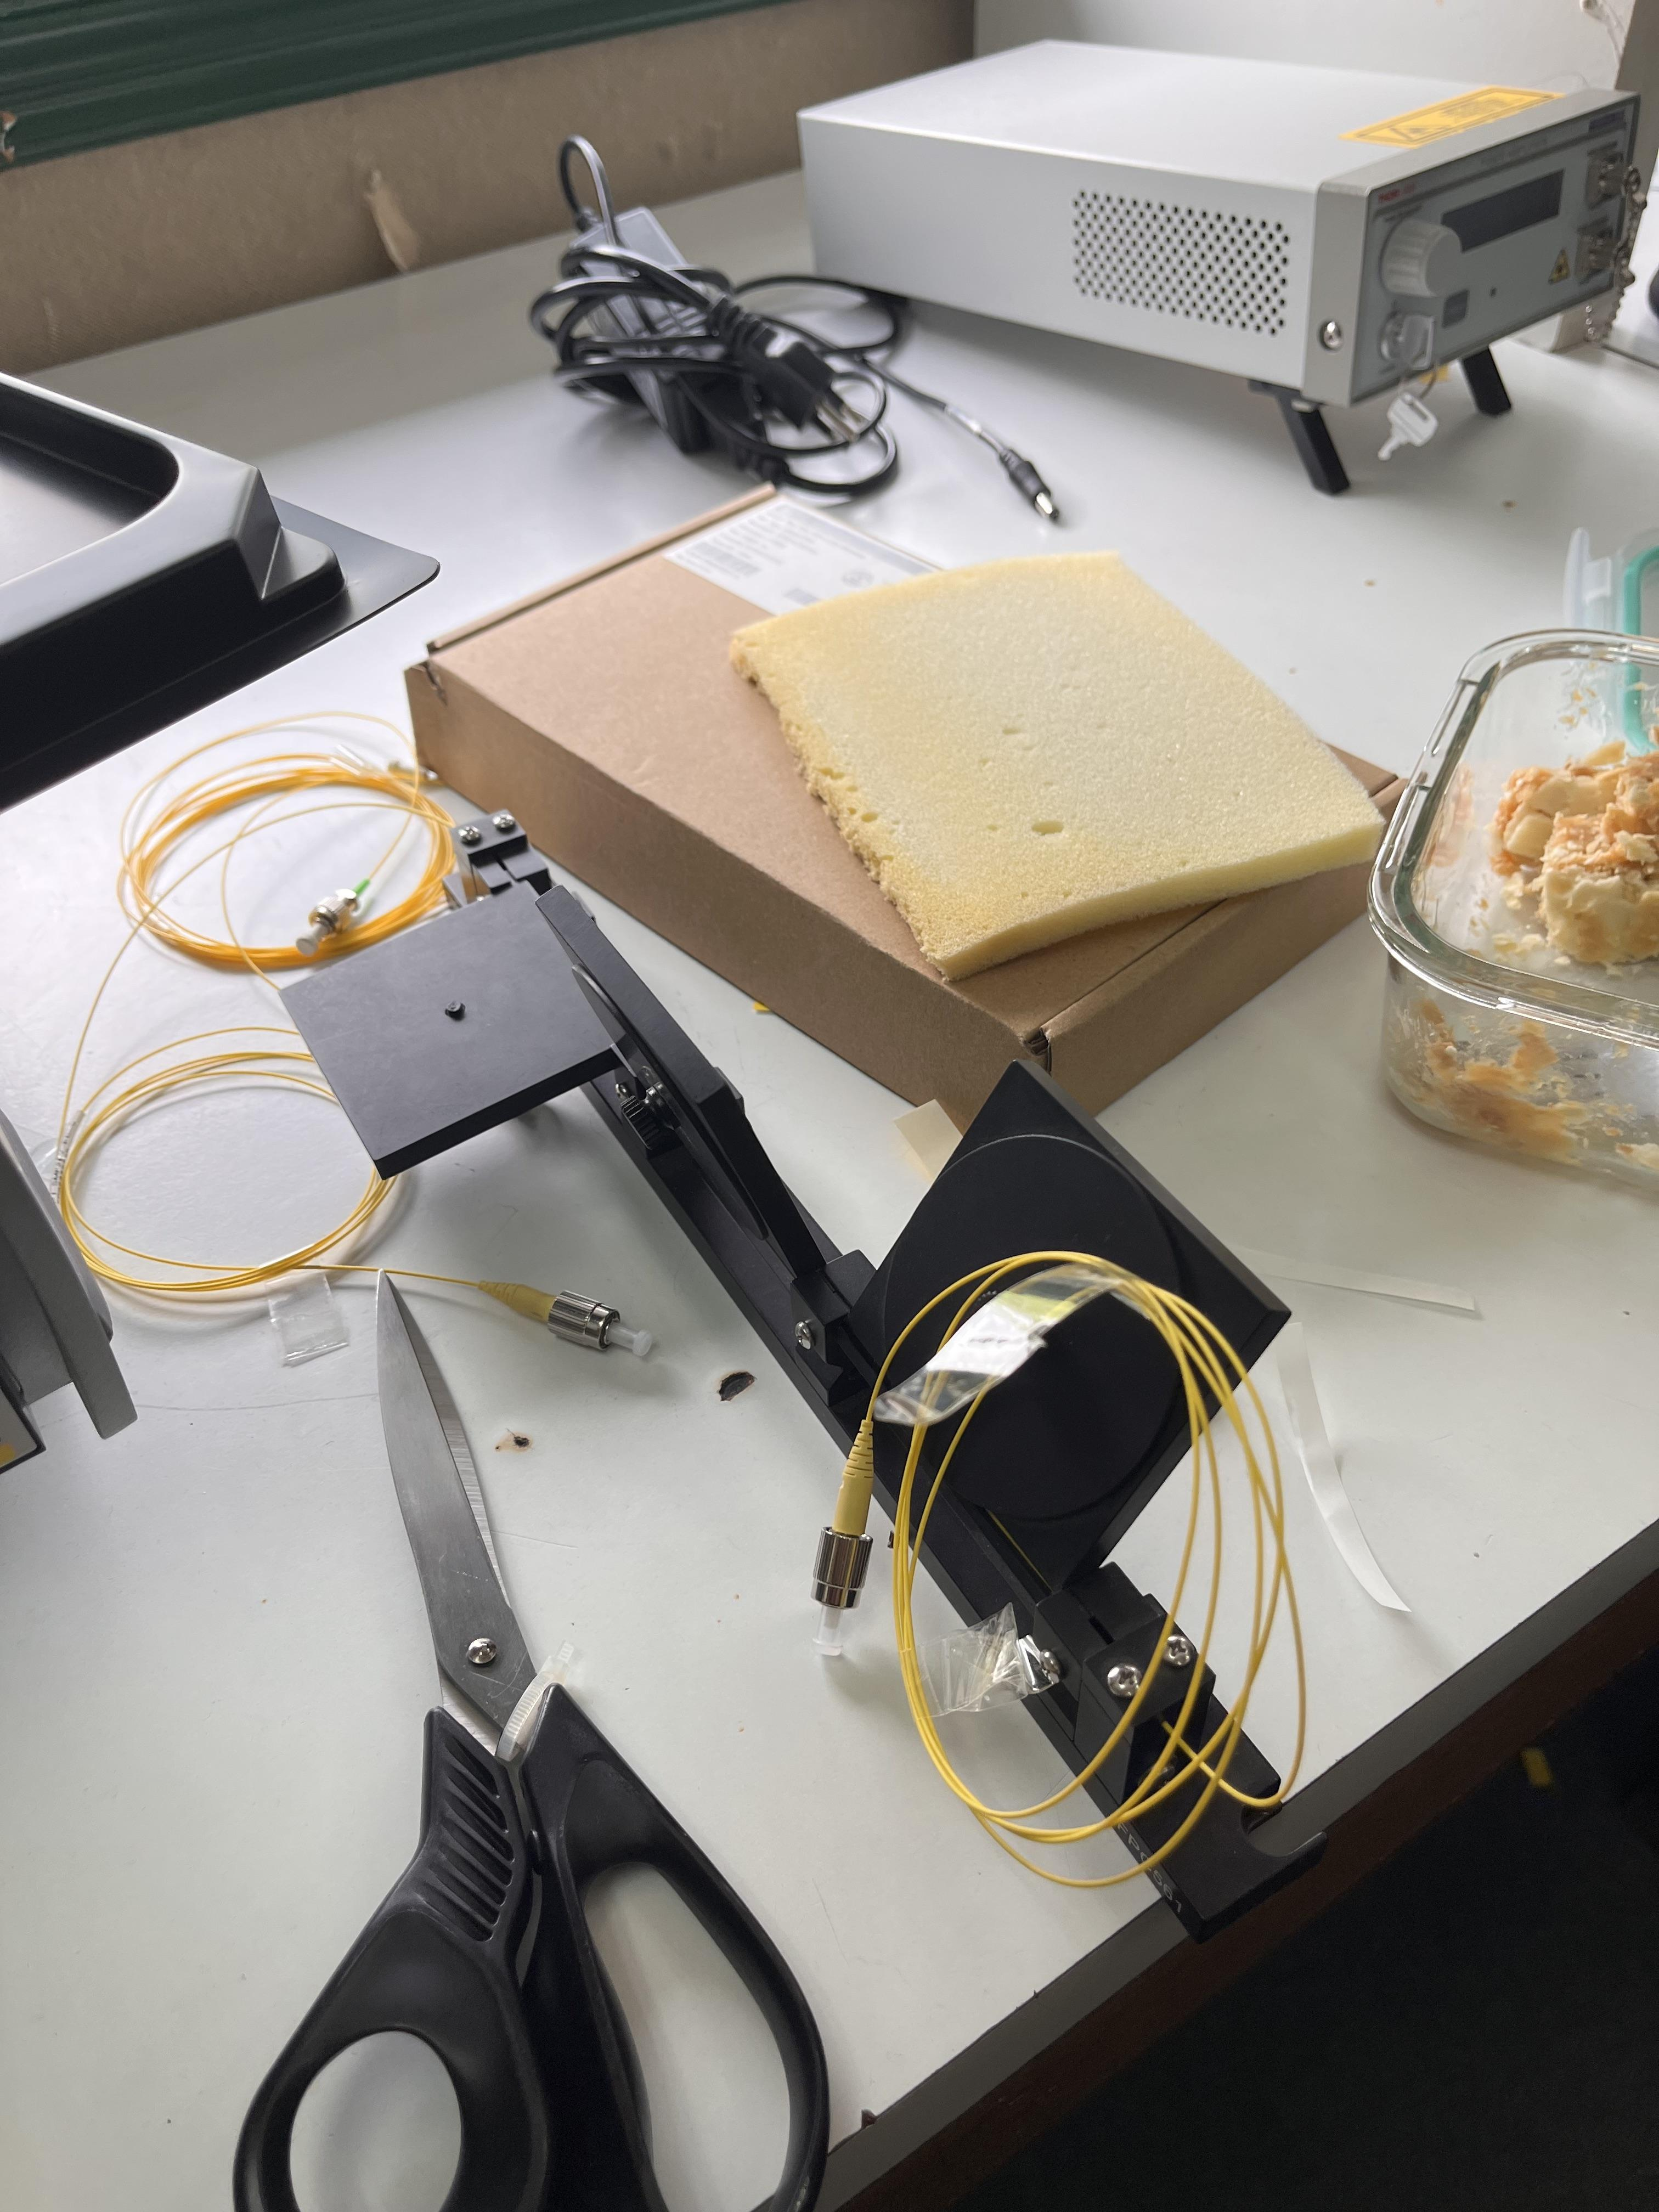fiber_cable: (49, 672, 699, 1374)
paddle_polarization_controller: (288, 815, 1366, 1958)
